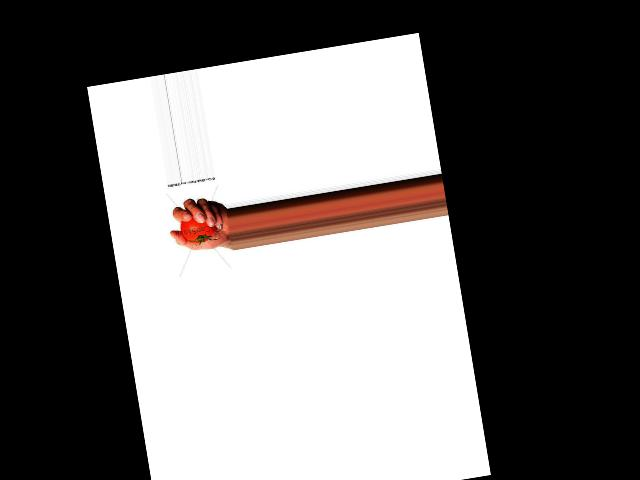tomato: (179, 215, 218, 245)
